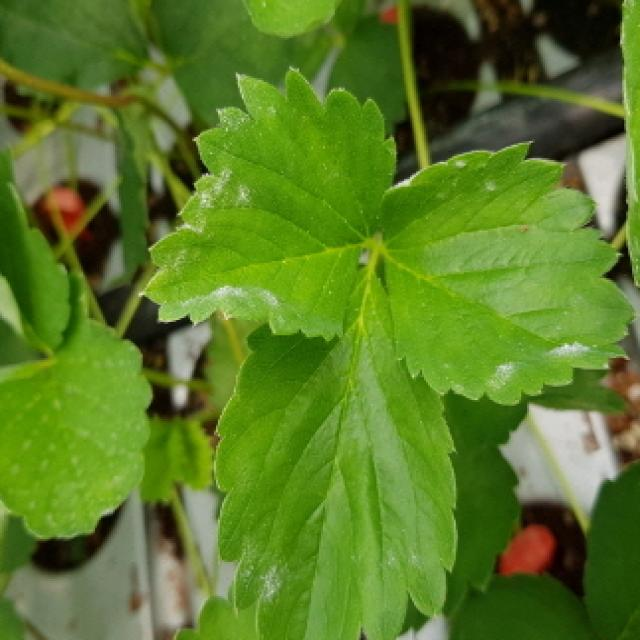Powdery Mildew Leaf: (212, 251, 457, 640), (138, 67, 397, 344), (378, 142, 635, 407)
